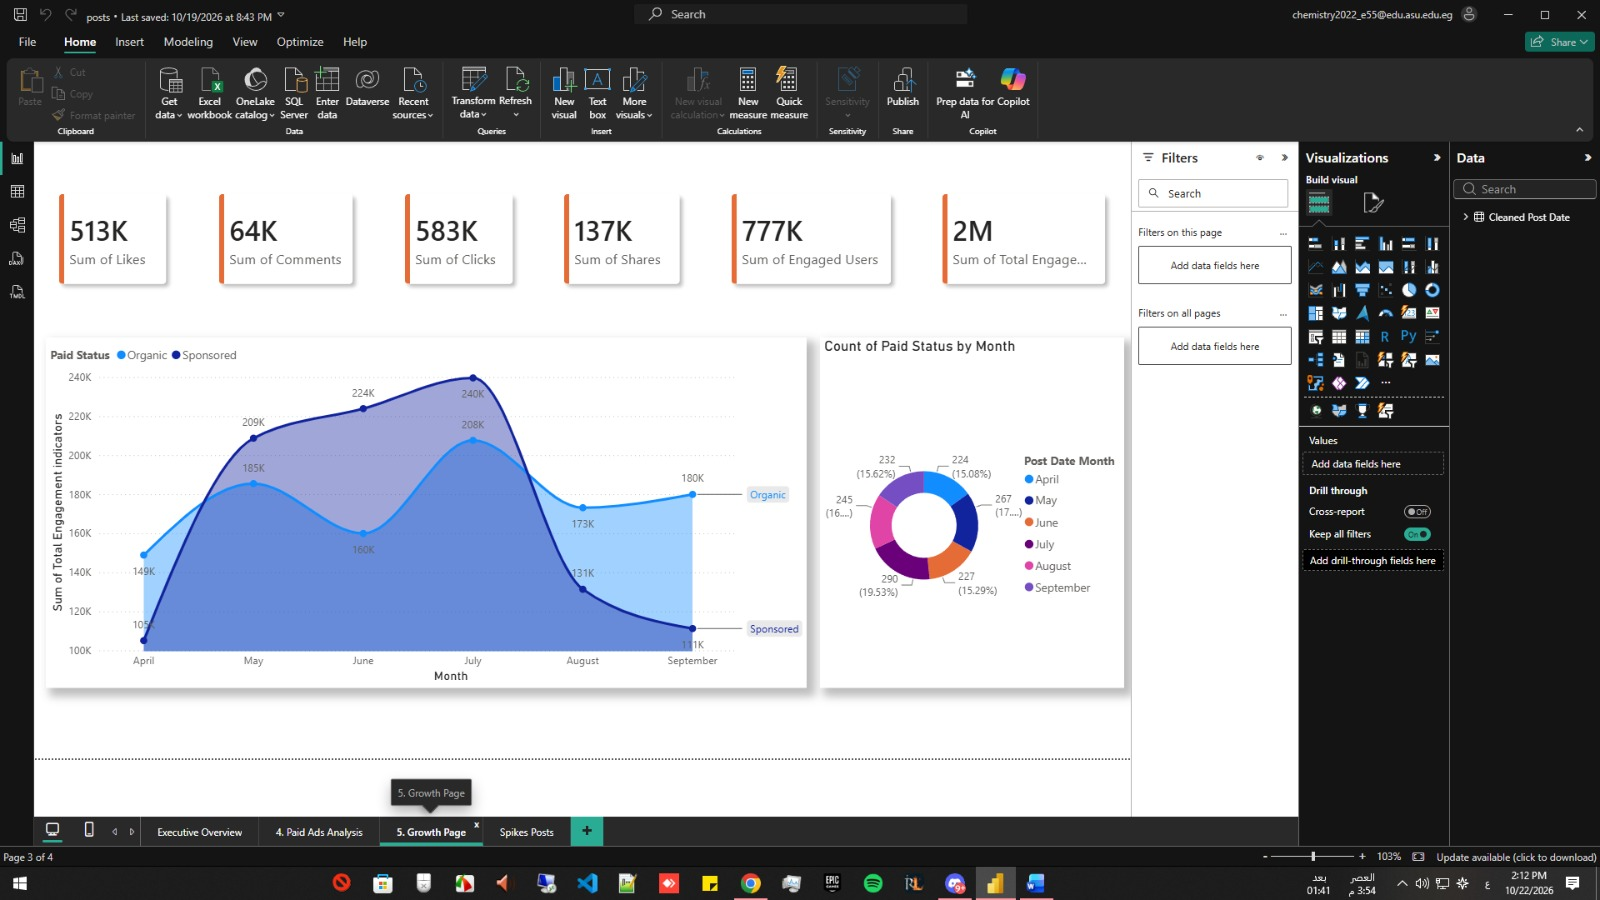

What the dashboard file says about the page in this screenshot:
{"tool":"powerbi","page":{"name":"5. Growth Page","canvas":[1280,720],"ordinal":2},"visuals":[{"type":"lineChart","fields":{"Category":["Cleaned Post Date.Post Date.Variation.Date Hierarchy.Month"],"Series":["Cleaned Post Date.Paid Status"],"Y":["Sum(Cleaned Post Date.Total Engagement indicators)"]},"box":[13.6,228.6,888,408.5],"z":0},{"type":"cardVisual","fields":{"Data":["Sum(Cleaned Post Date.Likes)"]},"box":[0,32.1,183.8,163.4],"z":1000},{"type":"cardVisual","fields":{"Data":["Sum(Cleaned Post Date.Comments)"]},"box":[186.7,32.1,215,163.4],"z":2000},{"type":"cardVisual","fields":{"Data":["Sum(Cleaned Post Date.Clicks)"]},"box":[403.6,32.1,184.8,163.4],"z":3000},{"type":"cardVisual","fields":{"Data":["Sum(Cleaned Post Date.Shares)"]},"box":[589.4,32.1,193.6,163.4],"z":4000},{"type":"cardVisual","fields":{"Data":["Sum(Cleaned Post Date.Engaged Users)"]},"box":[784.9,32.1,244.1,163.4],"z":5000},{"type":"cardVisual","fields":{"Data":["Sum(Cleaned Post Date.Total Engagement indicators)"]},"box":[1031,32.1,249,163.4],"z":6000},{"type":"donutChart","fields":{"Category":["Cleaned Post Date.Post Date.Variation.Date Hierarchy.Month"],"Y":["CountNonNull(Cleaned Post Date.Paid Status)"]},"box":[917.2,228.6,355,408.5],"z":7000}]}

Visuals, with their boxes on the page's 1280x720 design canvas (x1, y1, x2, y2). These are canvas units, not pixel positions in the 1600x900 screenshot, which may show the page scaled, cropped or inside an application window:
lineChart - Cleaned Post Date.Post Date.Variation.Date Hierarchy.Month x Cleaned Post Date.Paid Status: [14, 229, 902, 637]
cardVisual - Sum(Cleaned Post Date.Likes): [0, 32, 184, 196]
cardVisual - Sum(Cleaned Post Date.Comments): [187, 32, 402, 196]
cardVisual - Sum(Cleaned Post Date.Clicks): [404, 32, 588, 196]
cardVisual - Sum(Cleaned Post Date.Shares): [589, 32, 783, 196]
cardVisual - Sum(Cleaned Post Date.Engaged Users): [785, 32, 1029, 196]
cardVisual - Sum(Cleaned Post Date.Total Engagement indicators): [1031, 32, 1280, 196]
donutChart - Cleaned Post Date.Post Date.Variation.Date Hierarchy.Month x CountNonNull(Cleaned Post Date.Paid Status): [917, 229, 1272, 637]
